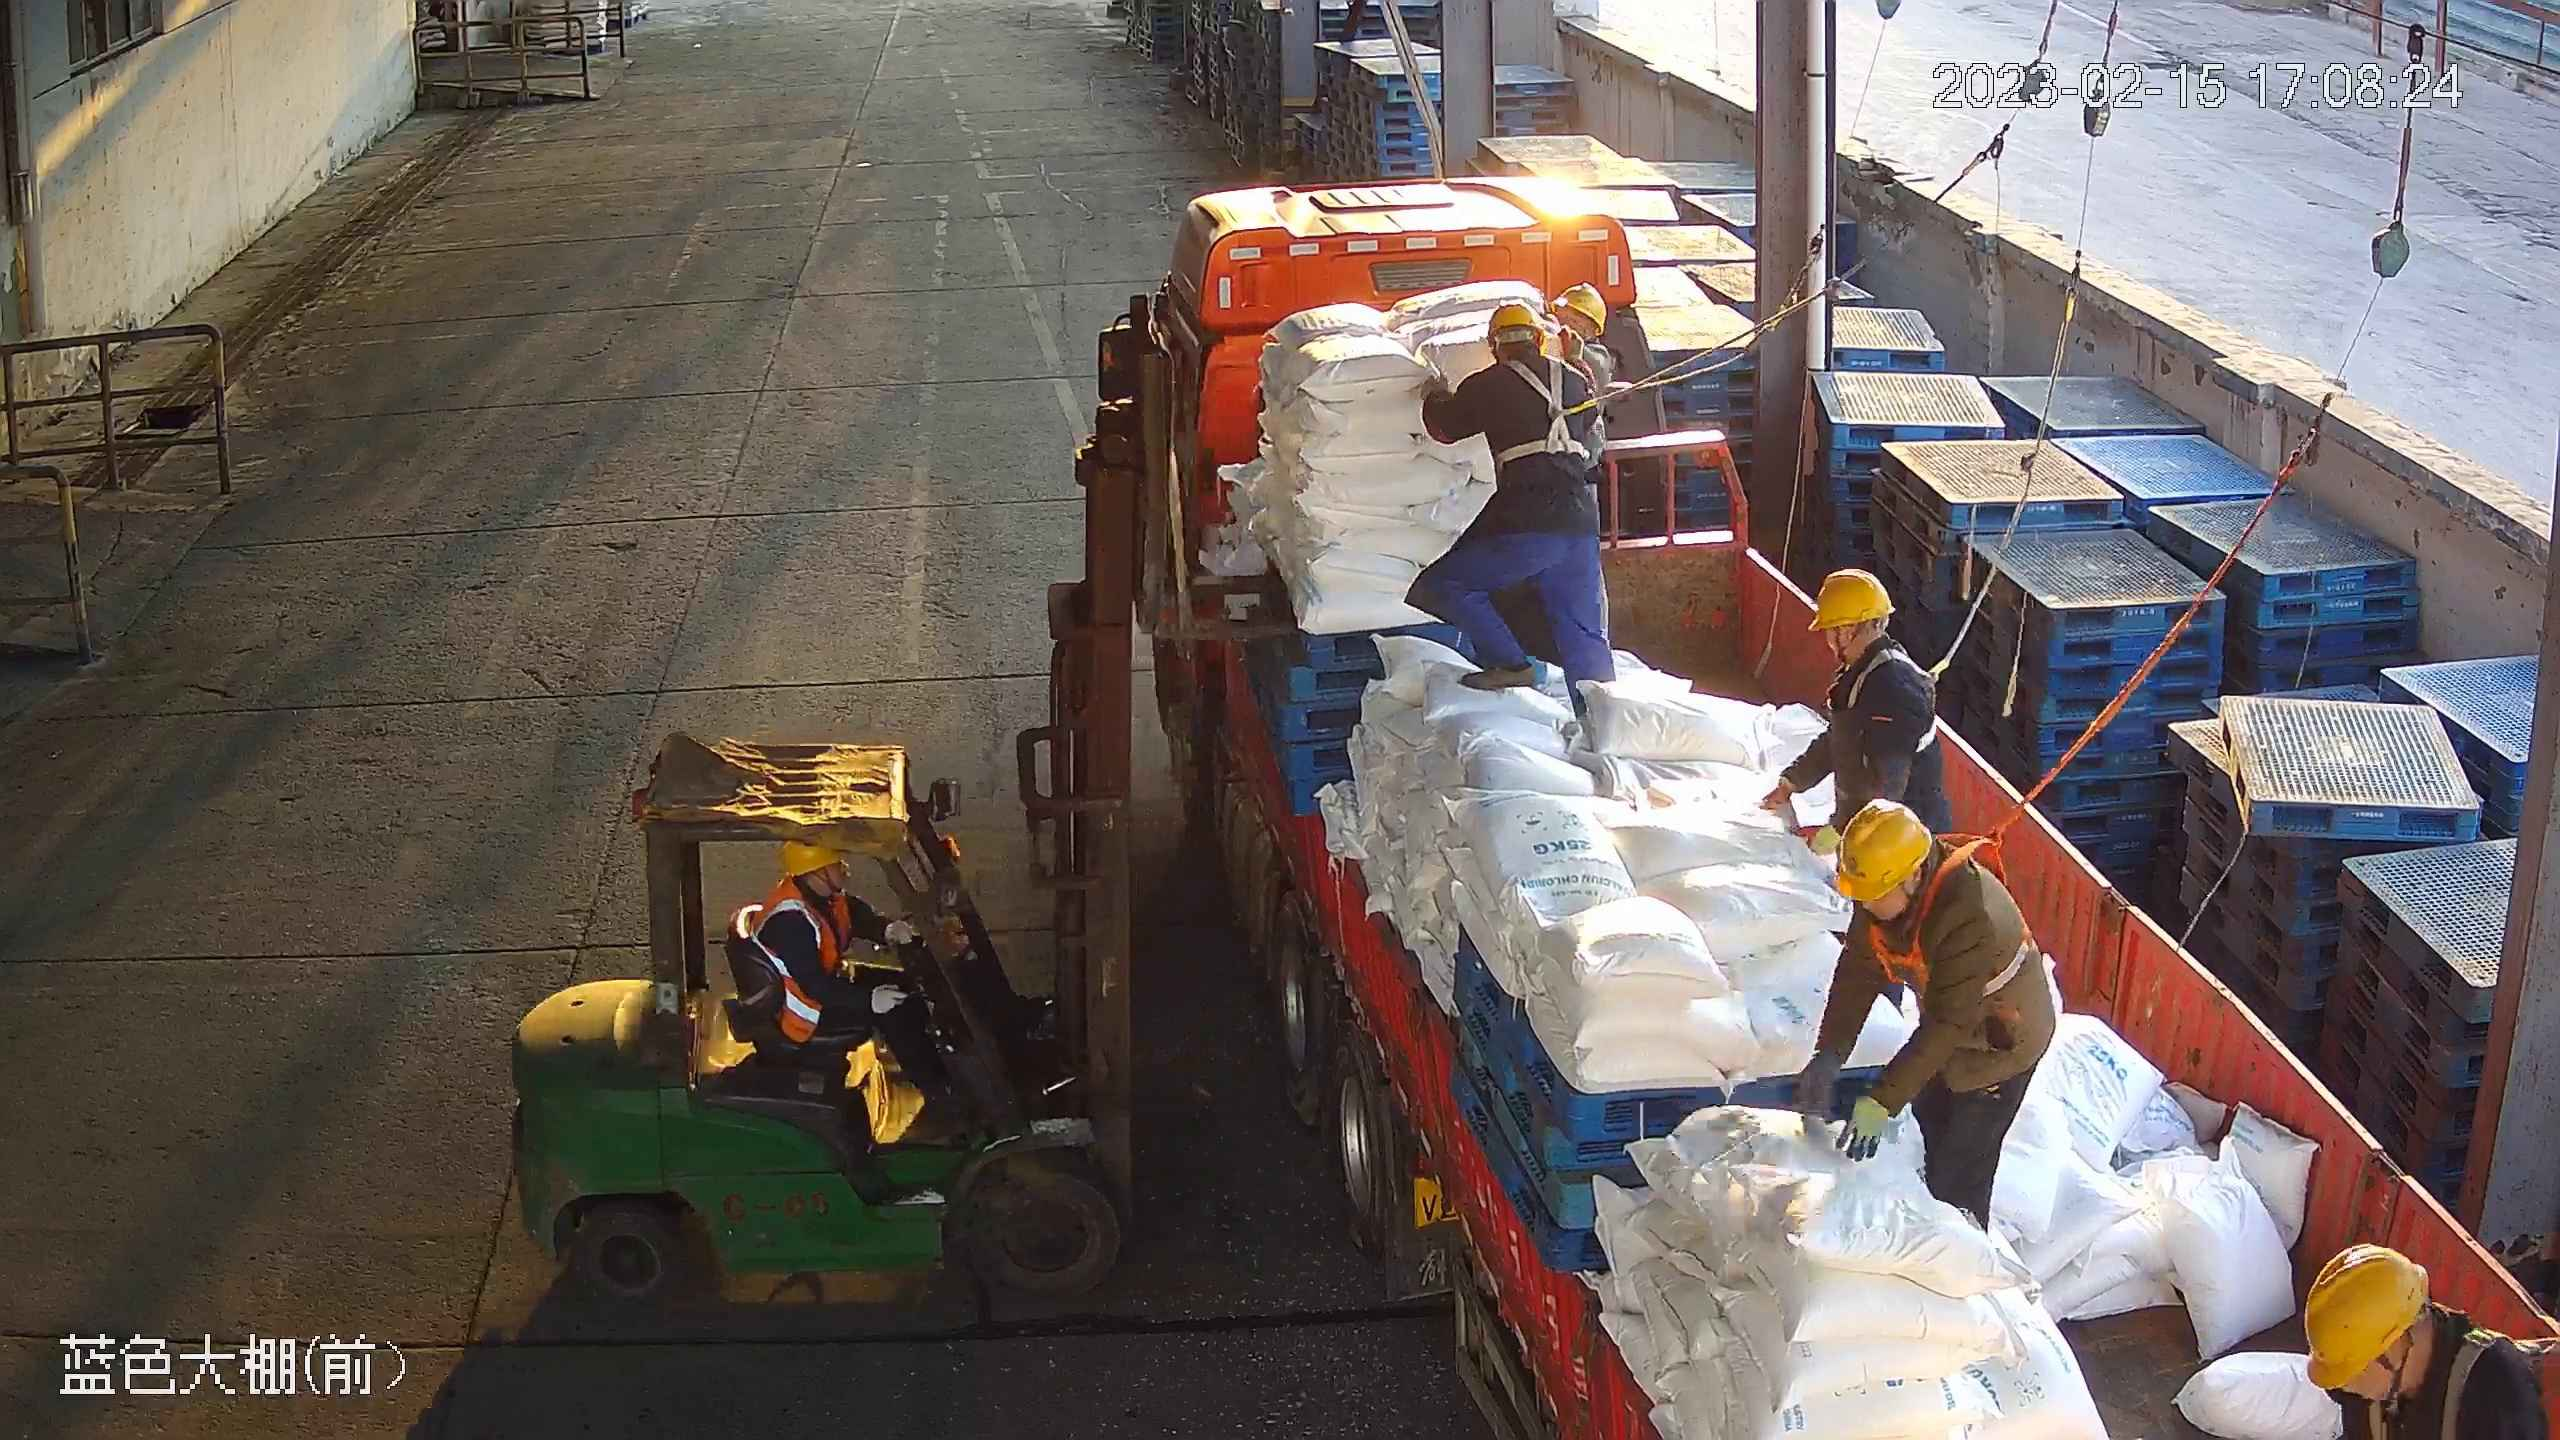belt: (1867, 831, 2030, 997), (2364, 1327, 2515, 1440), (1826, 646, 1939, 753), (1494, 361, 1592, 466)
head: (1833, 798, 2017, 955), (1807, 566, 1932, 717), (1454, 304, 1593, 427), (755, 841, 855, 944)
helmet: (2304, 1242, 2429, 1389), (1833, 797, 1932, 903), (1806, 566, 1897, 633), (1558, 284, 1606, 336), (1484, 300, 1544, 338), (781, 841, 839, 876)
people: (1793, 797, 2056, 1232), (1407, 301, 1615, 724), (752, 840, 969, 1118), (1760, 566, 1951, 846)
truck: (1097, 176, 2560, 1440)
